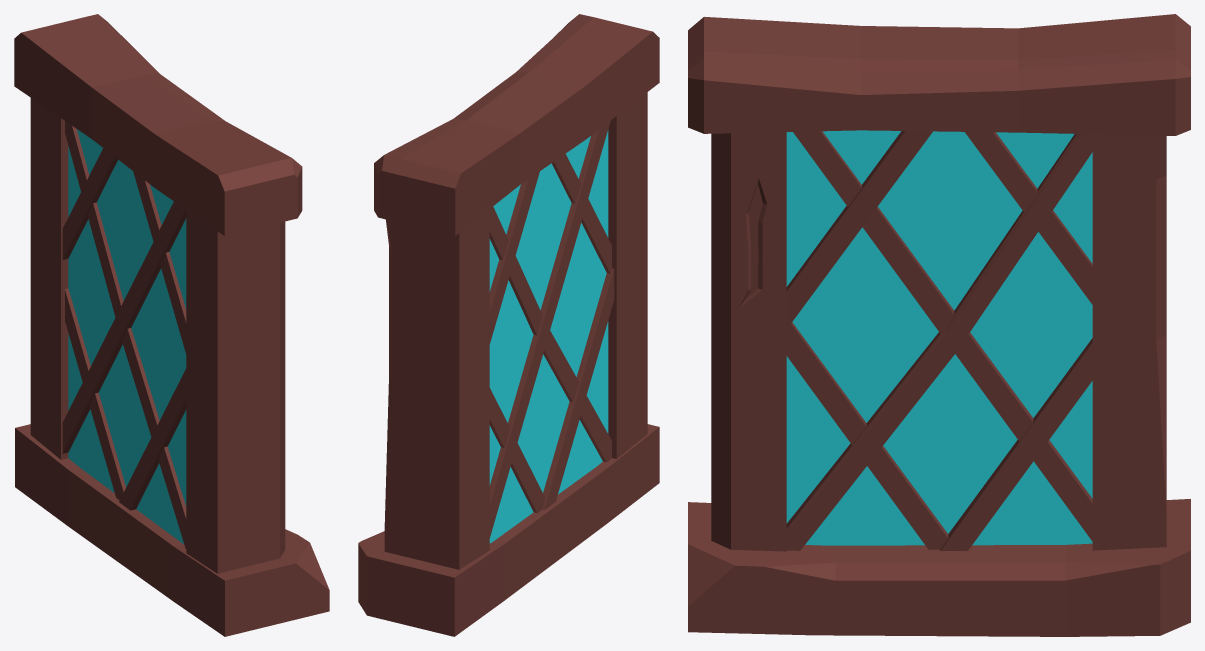
The model's file is BuildingWindow_02.fbx.
3 renders of one model, left to right at view 1: azimuth 30°, elevation 25°; view 2: azimuth 150°, elevation 25°; view 3: azimuth 270°, elevation 25°, orthographic. The views are drawn at different scales.
Parts seen in each view (by area): view 1: BuildingWindow_02; view 2: BuildingWindow_02; view 3: BuildingWindow_02.
Part boxes in pixels (bbox=[...]): BuildingWindow_02: bbox=[14, 14, 329, 636]; BuildingWindow_02: bbox=[358, 14, 659, 636]; BuildingWindow_02: bbox=[688, 14, 1190, 636].
Bounding box in the file's own units: 42.38 × 170 × 139.
